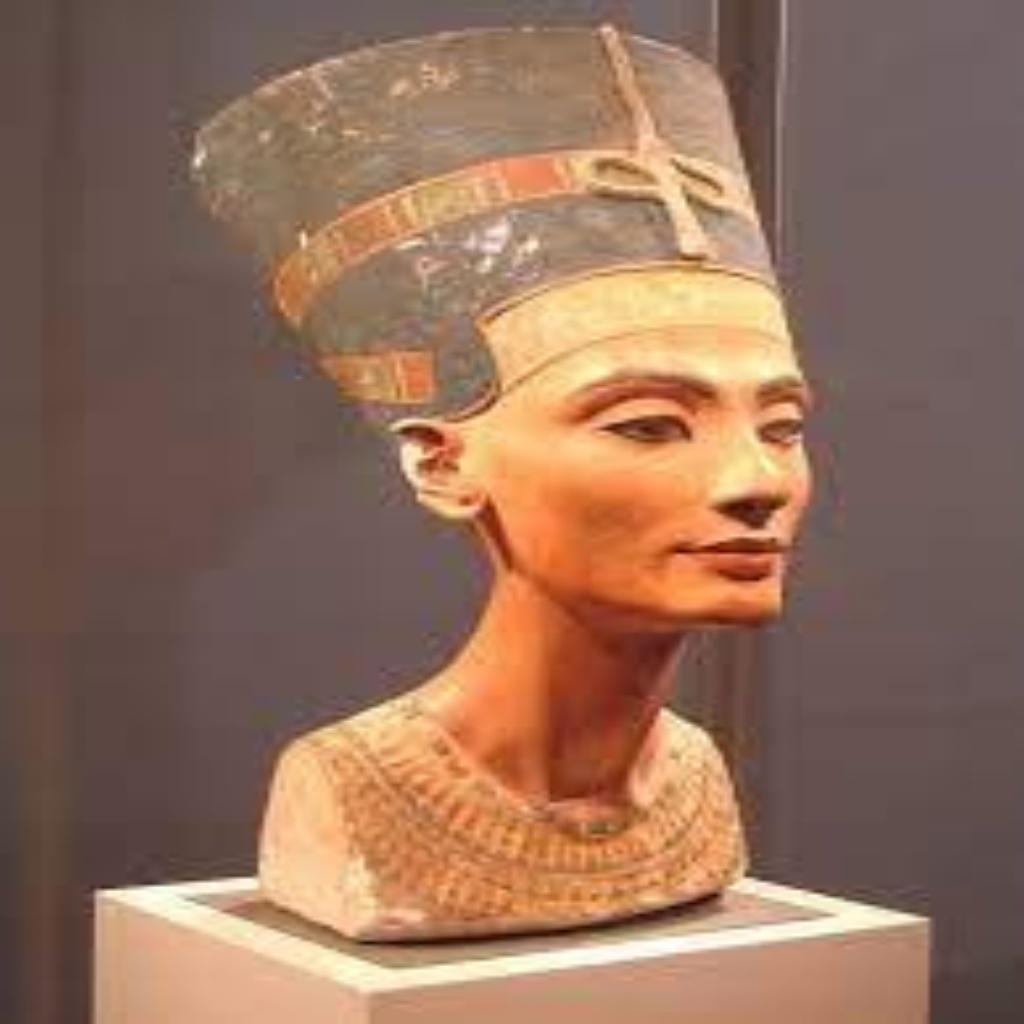Nefertiti: (180, 24, 824, 941)
